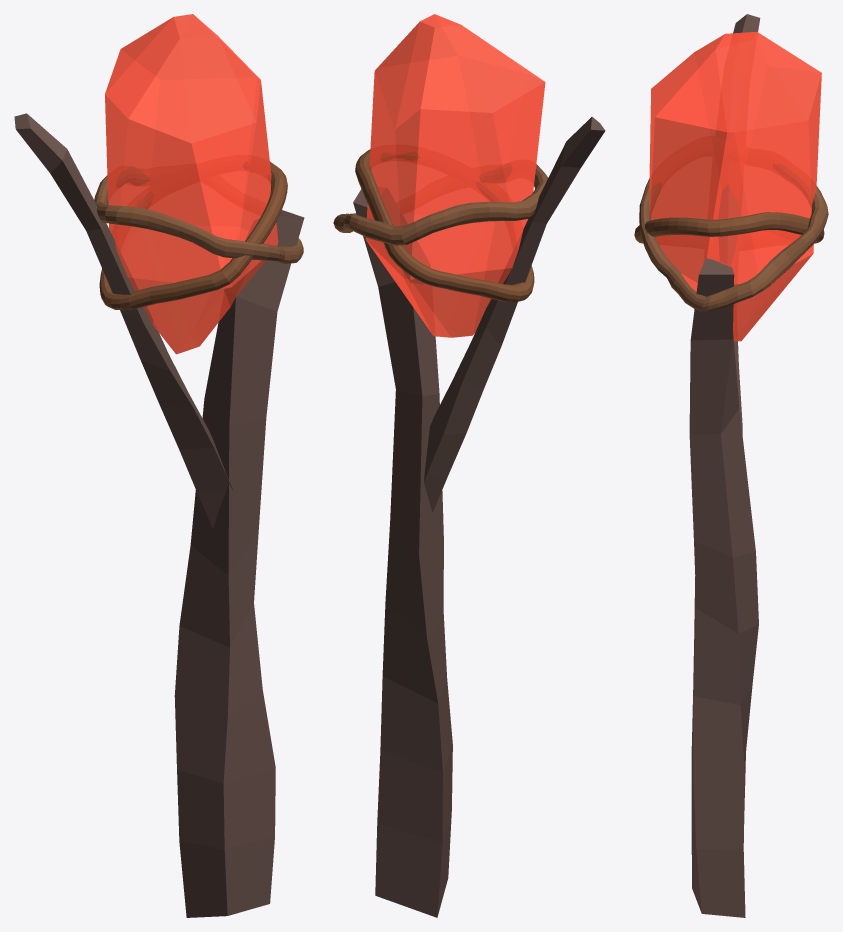
The model's file is CRYSTALwand.fbx.
3 renders of one model, left to right at view 1: azimuth 30°, elevation 25°; view 2: azimuth 150°, elevation 25°; view 3: azimuth 270°, elevation 25°, orthographic. The views are drawn at different scales.
Parts seen in each view (by area): view 1: Cube.001, Cube, Cube.002, Torus, Torus.001; view 2: Cube, Cube.001, Cube.002, Torus, Torus.001; view 3: Cube.001, Cube, Torus, Torus.001, Cube.002.
Boxes of the visible parts, bbox=[...] form: Cube.001: bbox=[174, 210, 304, 917]; Cube: bbox=[105, 14, 278, 354]; Cube.002: bbox=[14, 113, 233, 528]; Torus: bbox=[94, 166, 303, 263]; Torus.001: bbox=[99, 161, 287, 310]; Cube: bbox=[365, 14, 545, 337]; Cube.001: bbox=[353, 188, 452, 917]; Cube.002: bbox=[424, 117, 605, 512]; Torus: bbox=[333, 163, 547, 245]; Torus.001: bbox=[355, 149, 534, 302]; Cube.001: bbox=[689, 257, 758, 917]; Cube: bbox=[649, 31, 821, 341]; Torus: bbox=[639, 164, 828, 311]; Torus.001: bbox=[634, 212, 824, 243]; Cube.002: bbox=[718, 14, 760, 434].
Size of the model in its own units: 56.46 by 180 by 36.66.
